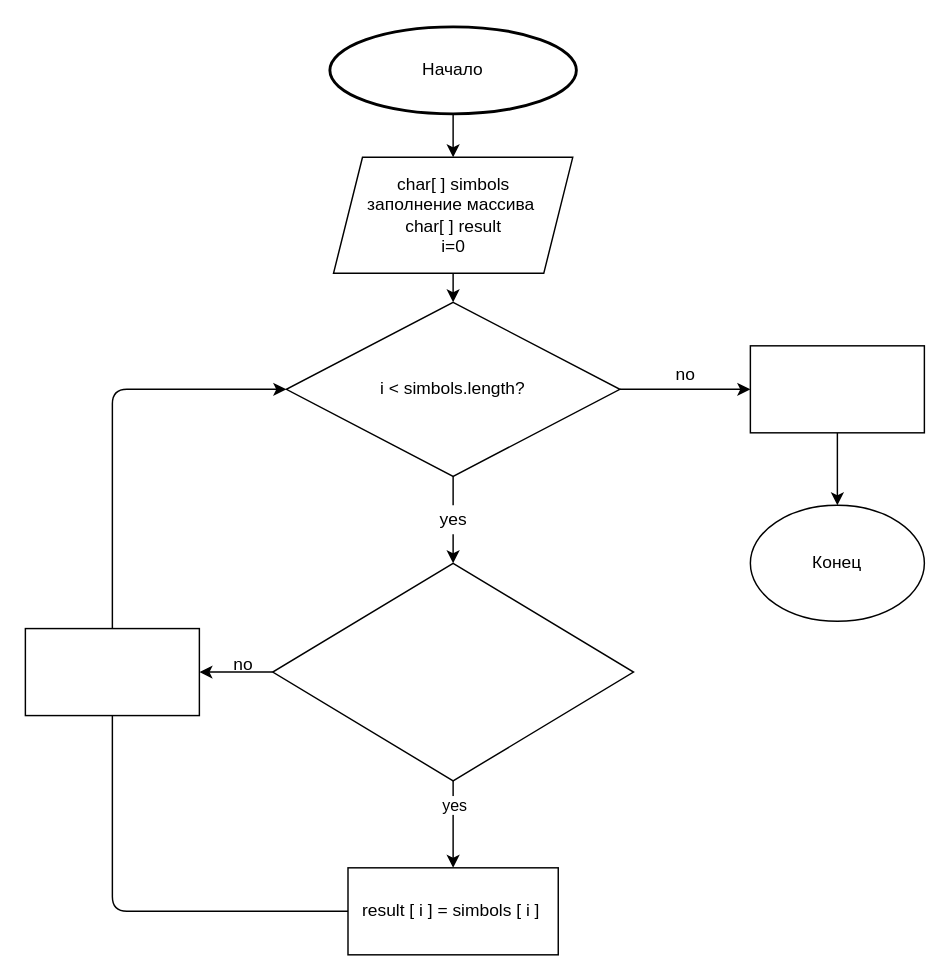
This 950x980 diagram has some shape labels left out. The shapes that lost their labels are listed below. From the top down, each one's centre as x and y in pixels, then its label:
point (836, 388): Вывод массива result [ i ]
point (111, 671): i ++
point (452, 671): длина строки массива simbols[ i ]<=3 ?
